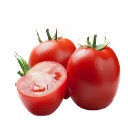tomato: (67, 43, 121, 110), (17, 59, 68, 116), (28, 33, 76, 81)
